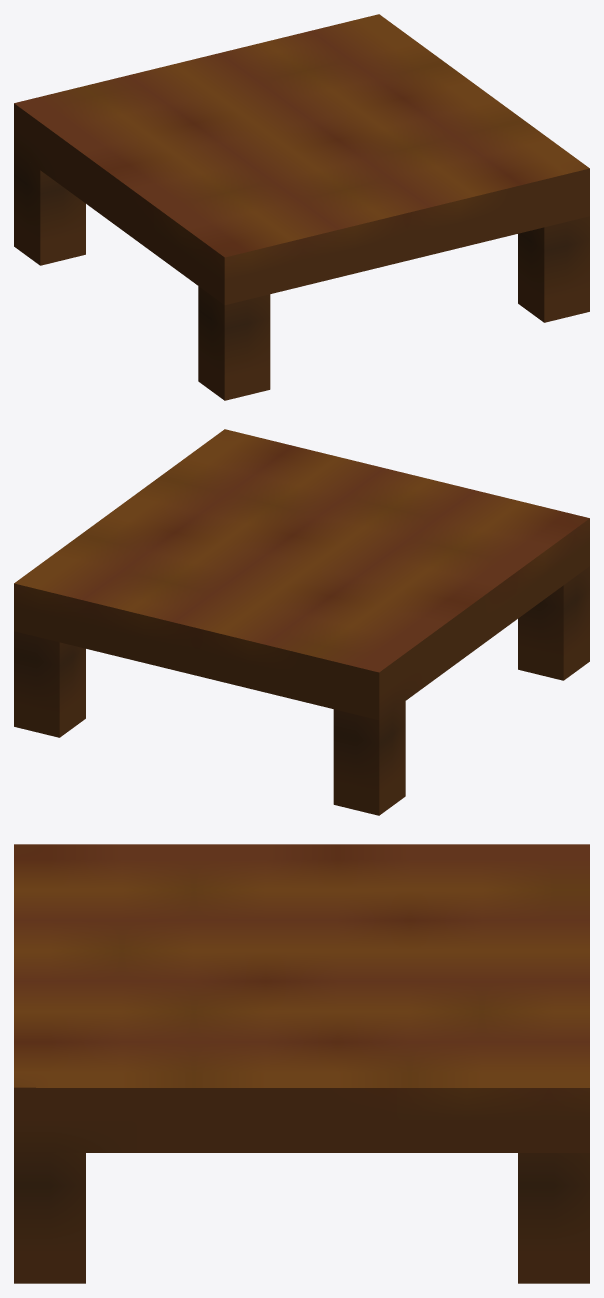
The model's file is table_small.obj.
3 renders of one model, top to bottom at view 1: azimuth 30°, elevation 25°; view 2: azimuth 150°, elevation 25°; view 3: azimuth 270°, elevation 25°, orthographic. The views are drawn at different scales.
Parts seen in each view (by area): view 1: Default; view 2: Default; view 3: Default.
Part boxes in pixels (<box>): Default: <box>14,14,589,400</box>; Default: <box>14,429,589,815</box>; Default: <box>14,844,589,1283</box>.
Size of the model in its own units: 1 by 0.375 by 1.
